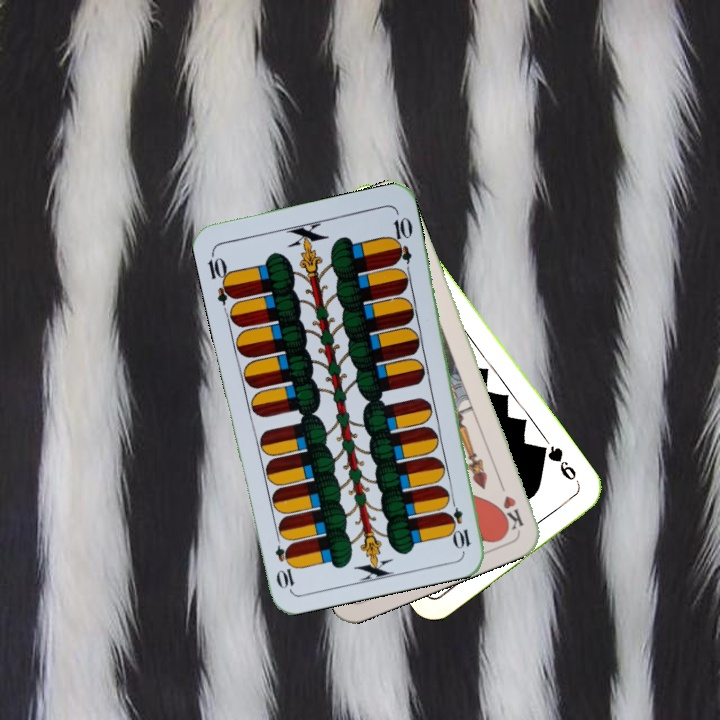E10: (204, 248, 238, 307), (445, 492, 473, 552)
G9: (538, 442, 583, 489)
HK: (494, 474, 527, 532)
